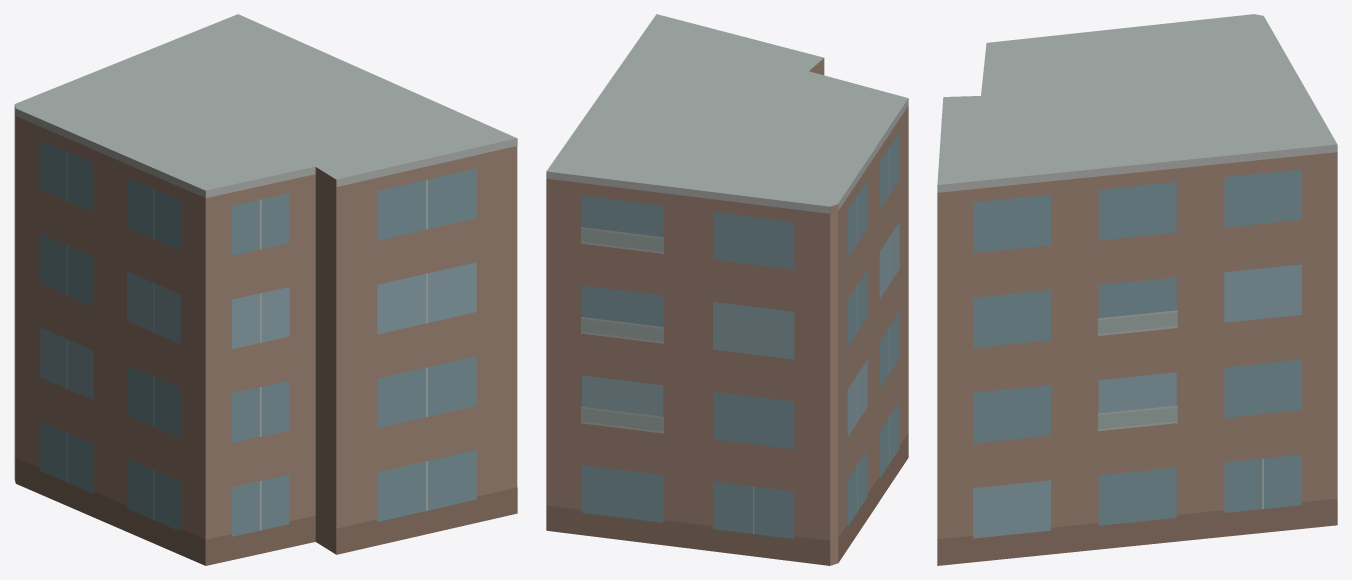
Rendered from survey-upis-32937979.glb.
The picture shows the model from 3 angles, left to right: view 1: azimuth 30°, elevation 25°; view 2: azimuth 150°, elevation 25°; view 3: azimuth 270°, elevation 25°; orthographic projection. The views are drawn at different scales.
Parts seen in each view (by area): view 1: survey-upis-32937979.tmp; view 2: survey-upis-32937979.tmp; view 3: survey-upis-32937979.tmp.
Boxes of the visible parts, bbox=[...] form: survey-upis-32937979.tmp: bbox=[14, 14, 517, 565]; survey-upis-32937979.tmp: bbox=[546, 14, 908, 565]; survey-upis-32937979.tmp: bbox=[937, 14, 1337, 565].
Size of the model in its own units: 11.78 by 12.2 by 11.64.
